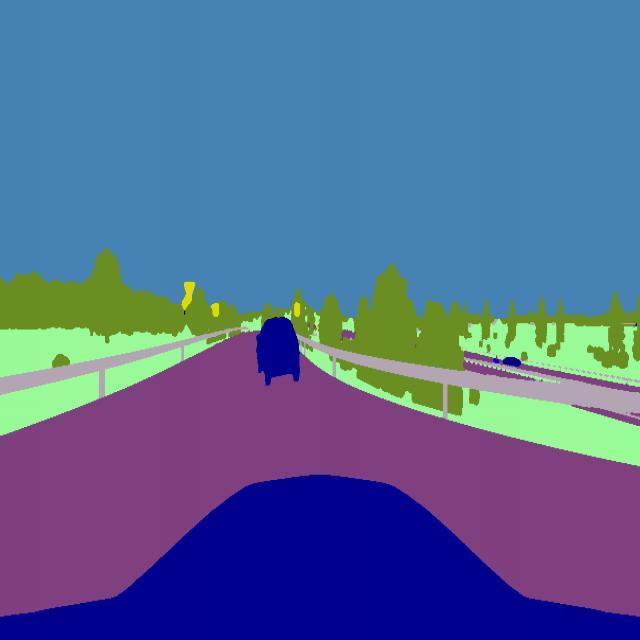safe: (250, 314, 303, 388)
